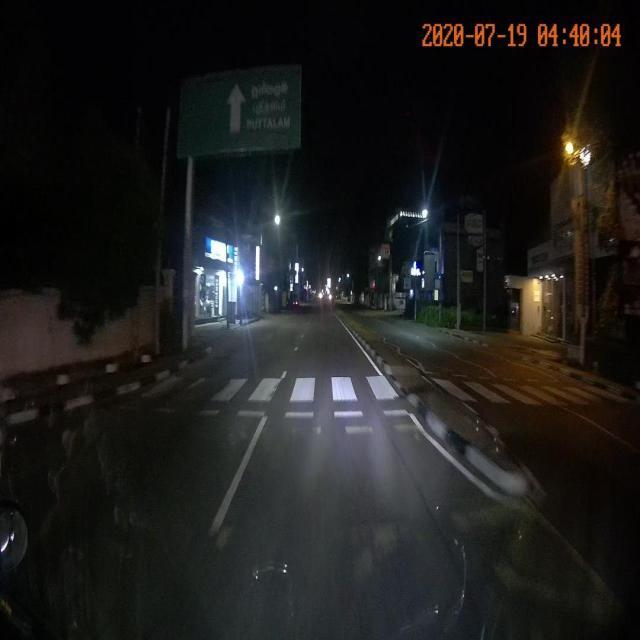Liniya 1: (407, 412, 509, 506), (208, 416, 268, 537), (561, 406, 638, 453), (339, 320, 384, 375), (519, 461, 546, 499), (280, 371, 287, 378), (294, 347, 298, 351), (301, 334, 304, 338)
Perehod: (135, 373, 400, 402), (431, 378, 635, 405)
